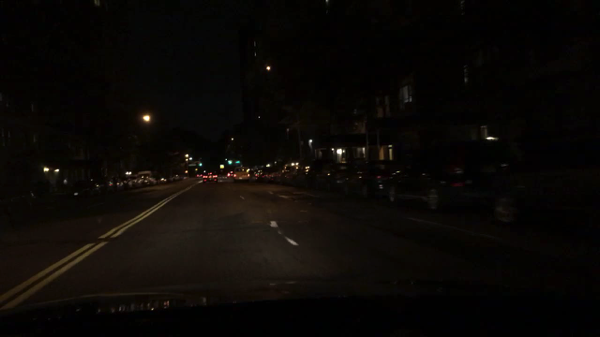car: (470, 163, 547, 227), (386, 163, 468, 213), (356, 164, 389, 196), (334, 165, 362, 193), (0, 185, 35, 207), (66, 179, 102, 200), (294, 162, 323, 186), (315, 165, 339, 190), (277, 162, 303, 185), (264, 165, 278, 182), (201, 172, 220, 184), (233, 169, 250, 181), (107, 178, 122, 191), (254, 168, 264, 181), (143, 178, 156, 187), (169, 174, 181, 182), (132, 179, 143, 187), (121, 180, 132, 188), (156, 177, 167, 184), (193, 173, 203, 178), (228, 171, 235, 178)
person: (63, 177, 68, 191)
traffic light: (228, 160, 233, 166), (236, 161, 242, 165), (198, 162, 202, 167)
traffic sign: (220, 164, 225, 169)
